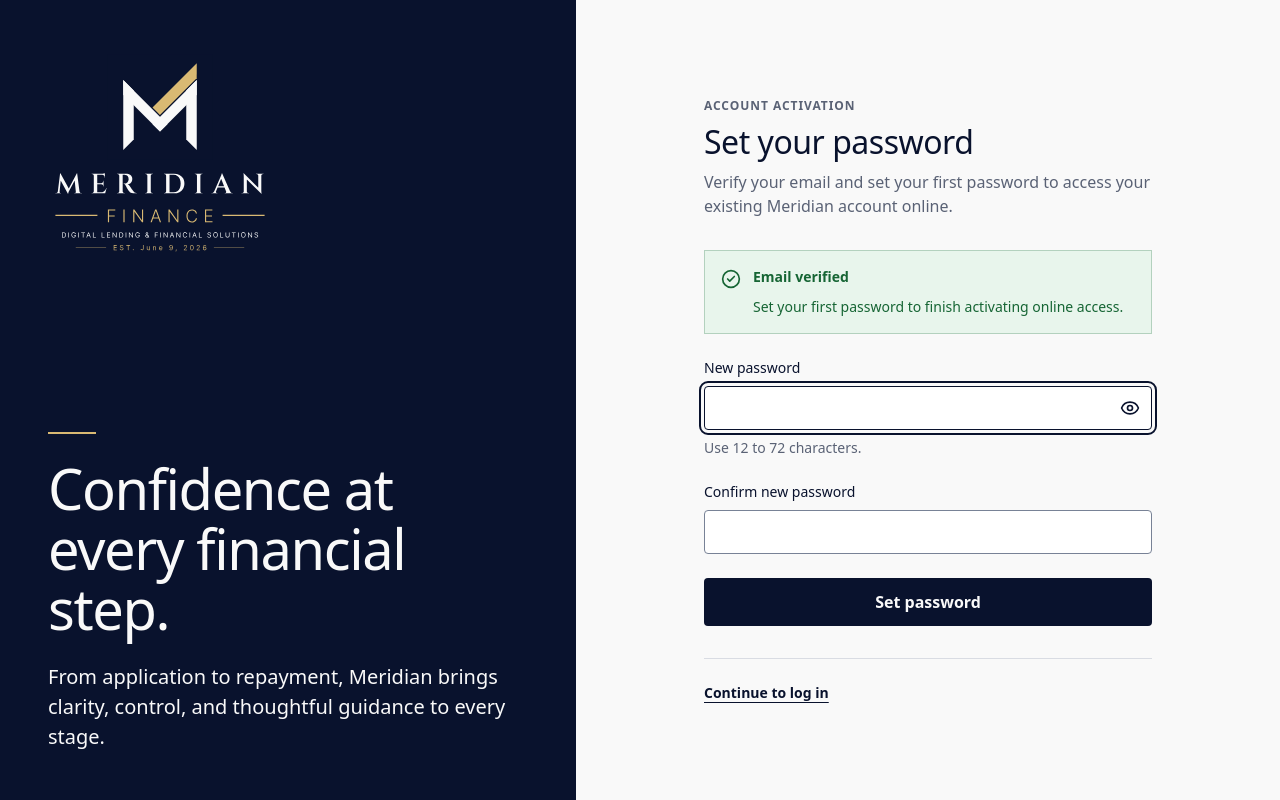
it: validates the existing password policy and confirmation (Customer-password-123)
In the password field labelled "New password": [928, 408] box [704,386,1152,430], type "Customer-password-123"
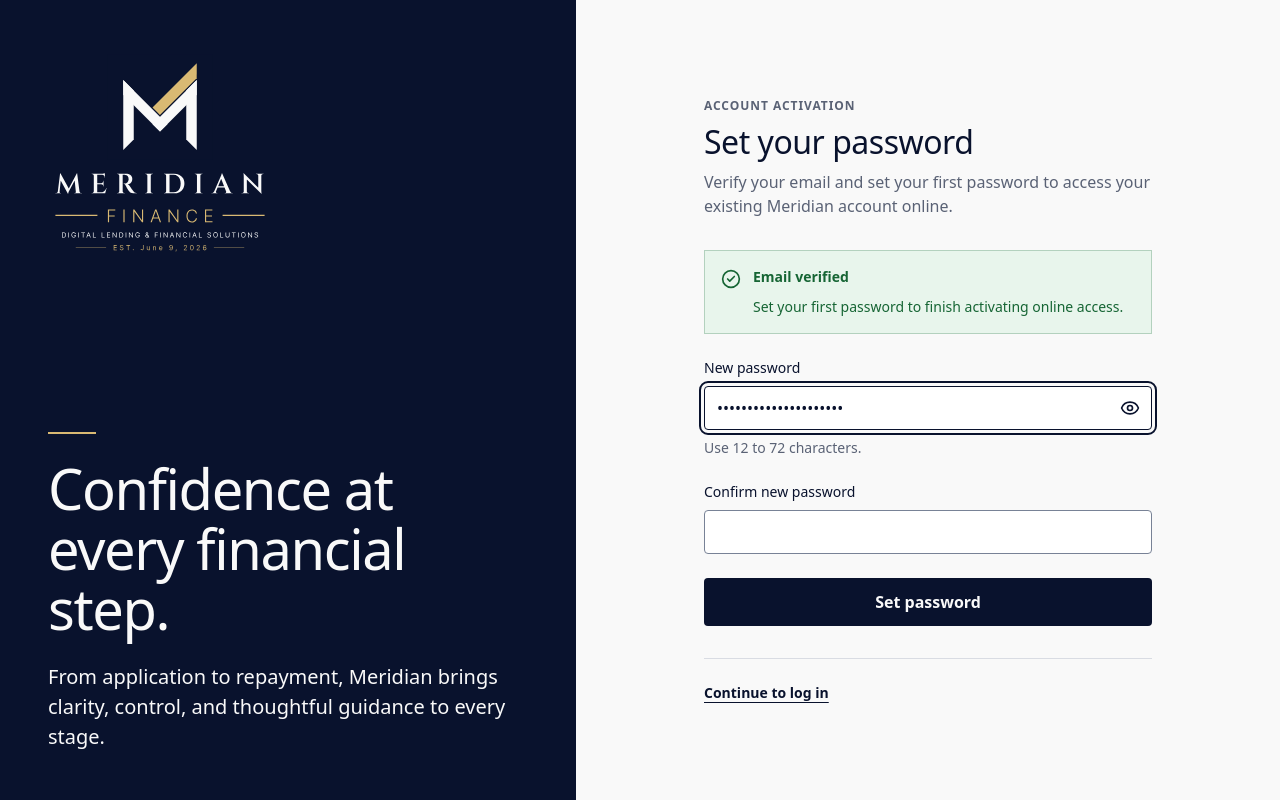
In the password field labelled "Confirm new password": [928, 532] box [704,510,1152,554], type "different-password"
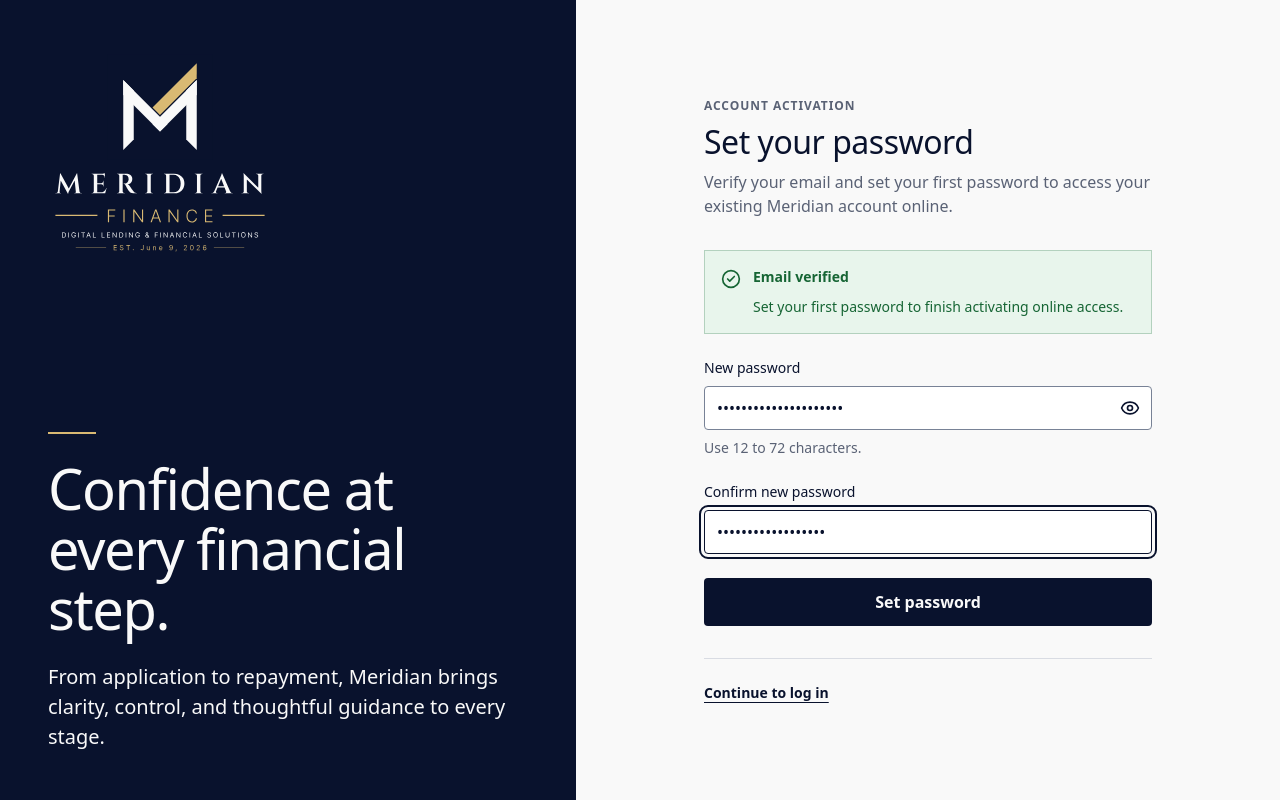
Click the button "Set password": [928, 602] box [704,578,1152,626]
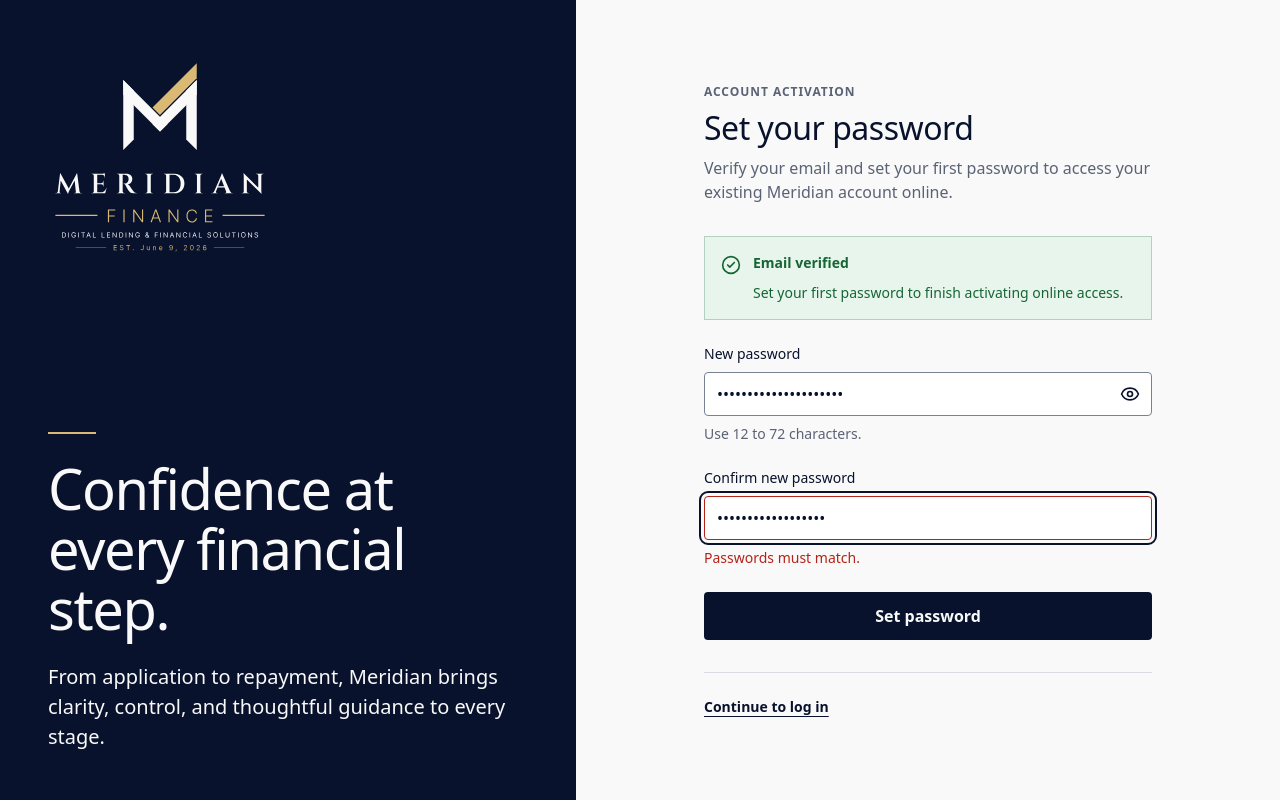
Check: the text "Passwords must match." is shown, box [704,548,860,566]
